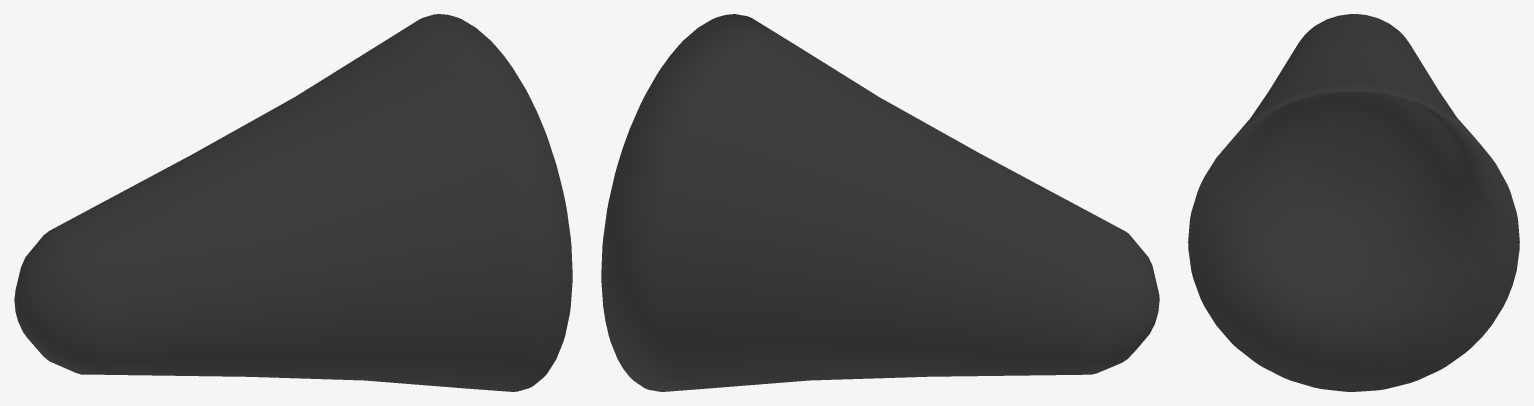
Rendered from hornetmissile.glb.
The picture shows the model from 3 angles, left to right: view 1: azimuth 30°, elevation 25°; view 2: azimuth 150°, elevation 25°; view 3: azimuth 270°, elevation 25°; orthographic projection. The views are drawn at different scales.
Visible parts, largest first — view 1: Sphere.004; view 2: Sphere.004; view 3: Sphere.004.
Part boxes in pixels (<box>): Sphere.004: <box>14,14,572,391</box>; Sphere.004: <box>601,14,1159,391</box>; Sphere.004: <box>1188,14,1519,391</box>.
Bounding box in the file's own units: 1.45 × 1.06 × 1.06.
Materials: 1 (1 with a texture image).
